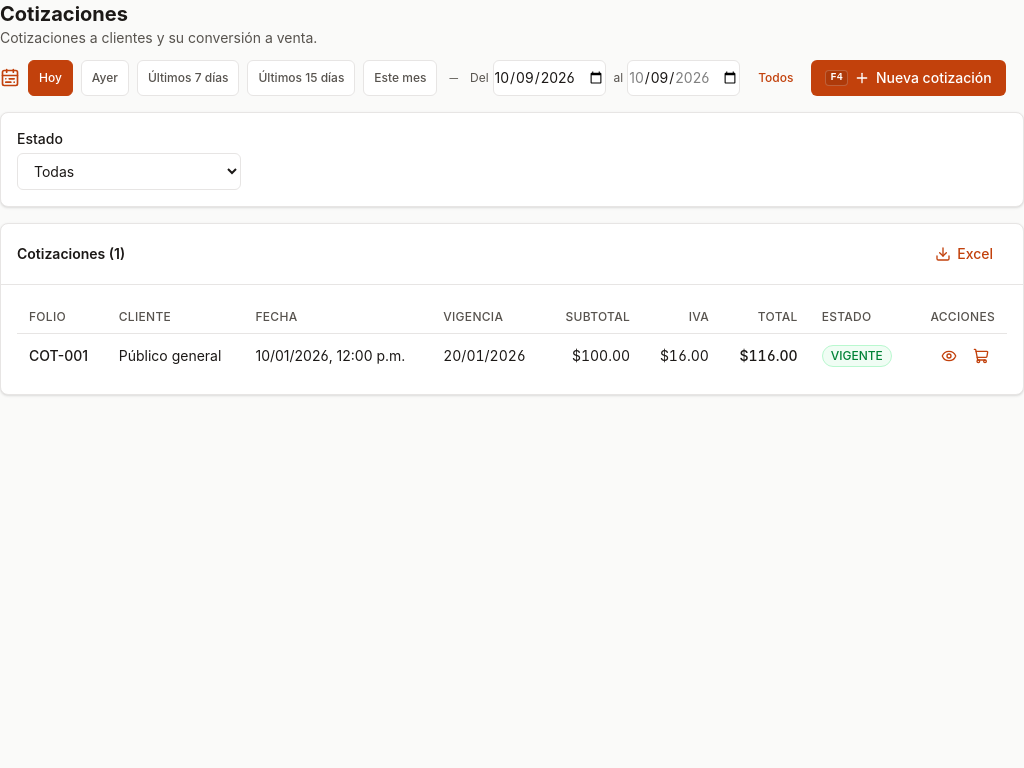
Test: CotizacionesPage › abre el detalle de partidas al hacer clic en Ver detalles
Step 1. Click the button named "Ver detalles" → click(949, 356), box [935,342,963,370]
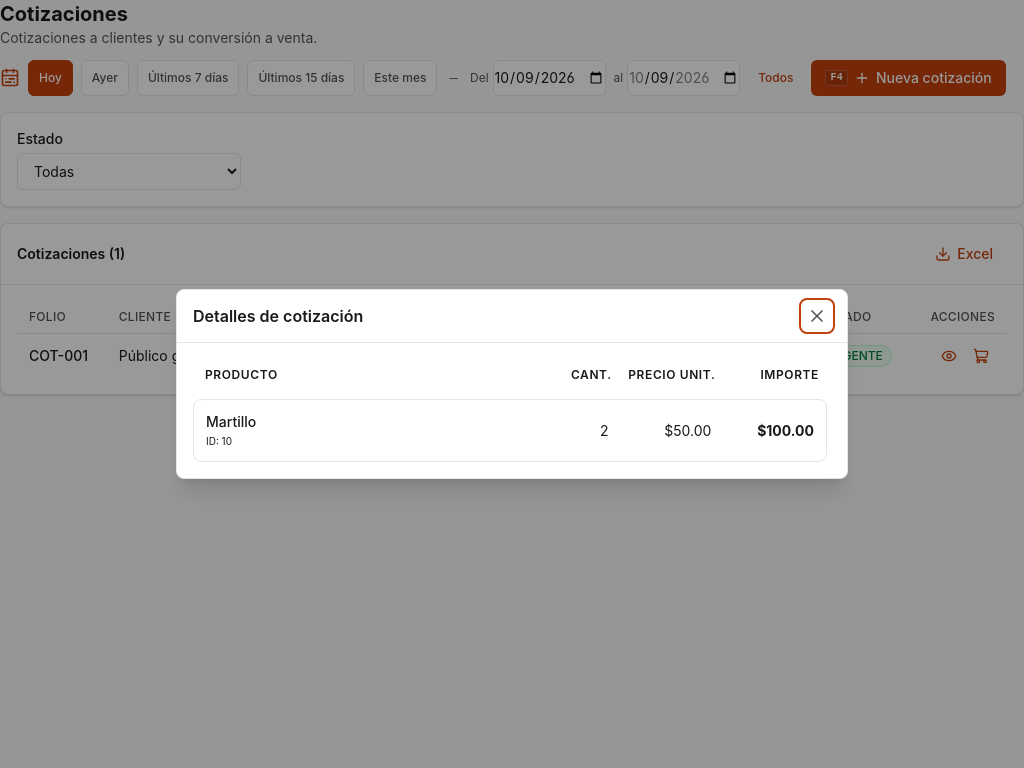
expect the heading "Detalles de cotización" is shown: met, box [193,304,363,328]
expect the text "Martillo" is shown: met, box [206,413,256,430]
expect the text "Cant." is shown: met, box [571,367,612,382]
